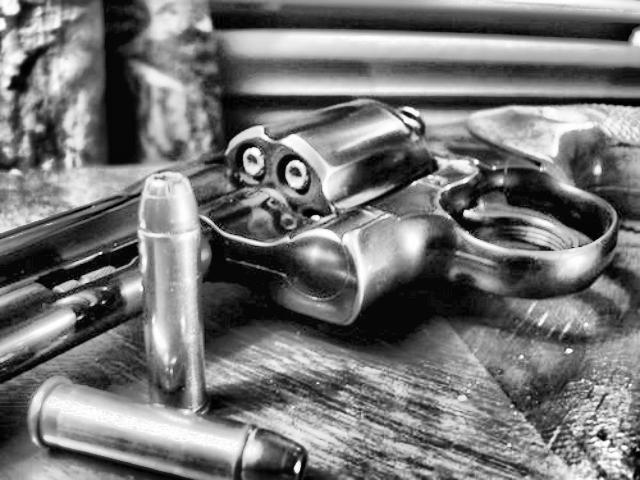pistol: (0, 92, 638, 386)
